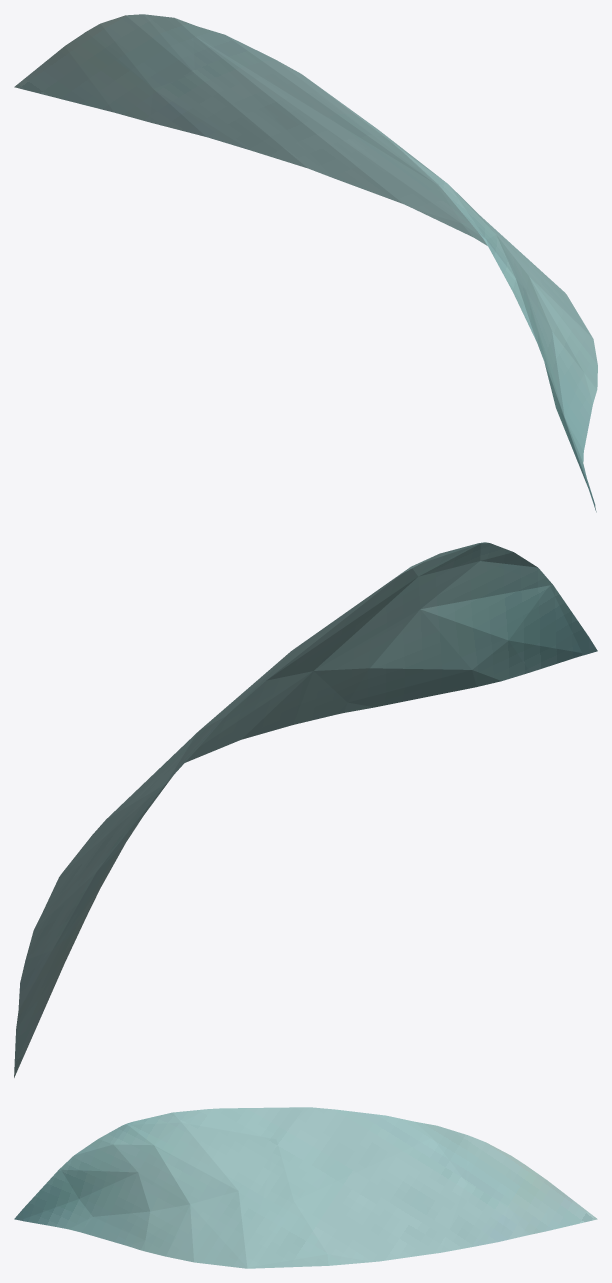
The picture shows the model from 3 angles, top to bottom: view 1: azimuth 30°, elevation 25°; view 2: azimuth 150°, elevation 25°; view 3: azimuth 270°, elevation 25°; orthographic projection. The views are drawn at different scales.
Parts seen in each view (by area): view 1: 091_W_Aya_100K_01; view 2: 091_W_Aya_100K_01; view 3: 091_W_Aya_100K_01.
Part boxes in pixels (x1,y1,x2,y2): 091_W_Aya_100K_01: (14,14,597,512); 091_W_Aya_100K_01: (14,542,597,1077); 091_W_Aya_100K_01: (14,1107,597,1268).
Size of the model in its own units: 11.3 by 11.94 by 56.38.
Materials: 1 (1 with a texture image).
